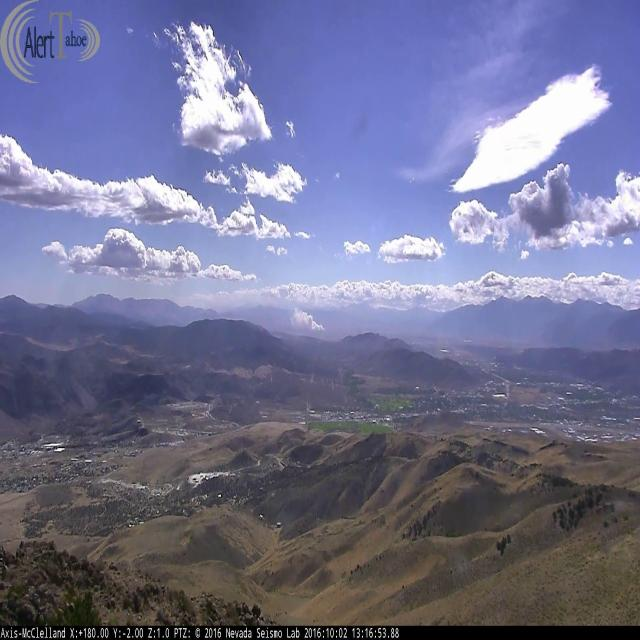smoke: (288, 307, 324, 332)
